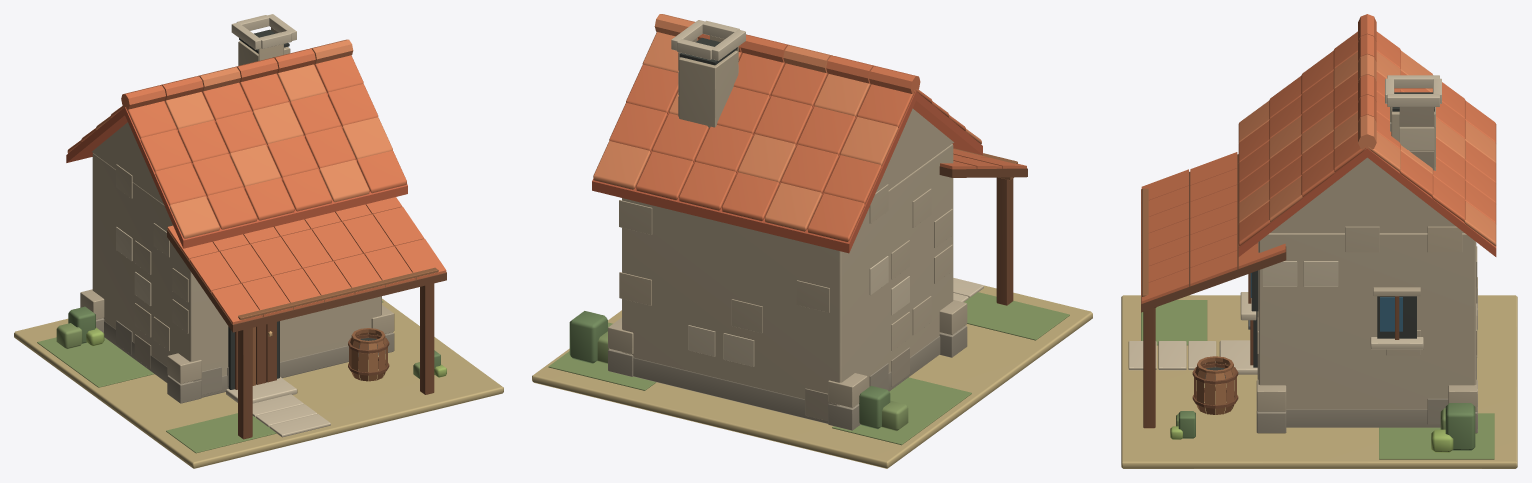
Rendered from house_cottage_porch.glb.
3 views of the same model, side by side, from view 1: azimuth 30°, elevation 25°; view 2: azimuth 150°, elevation 25°; view 3: azimuth 270°, elevation 25° (orthographic). The views are drawn at different scales.
Visible parts, largest first — view 1: house_cottage_porch; view 2: house_cottage_porch; view 3: house_cottage_porch.
Boxes of the visible parts, left/top/right/bottom form: house_cottage_porch: left=14, top=14, right=503, bottom=468; house_cottage_porch: left=532, top=14, right=1092, bottom=468; house_cottage_porch: left=1121, top=14, right=1517, bottom=468.
Size of the model in its own units: 2.4 by 2.17 by 2.4.
